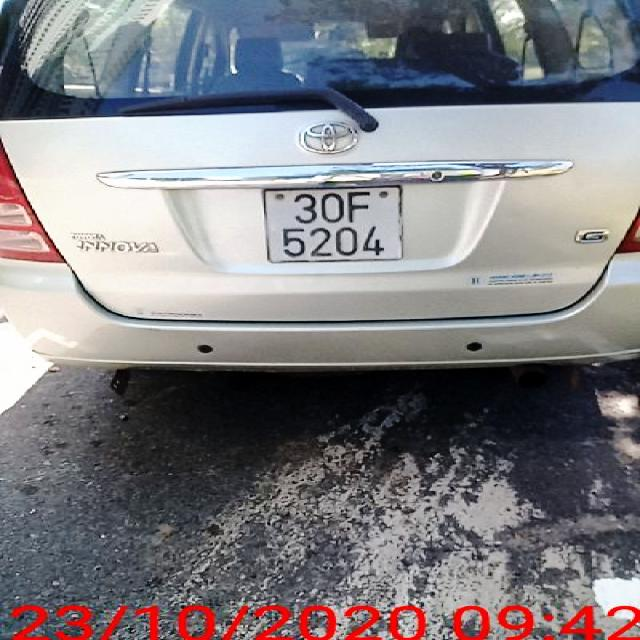license_plate: (261, 189, 407, 262)
